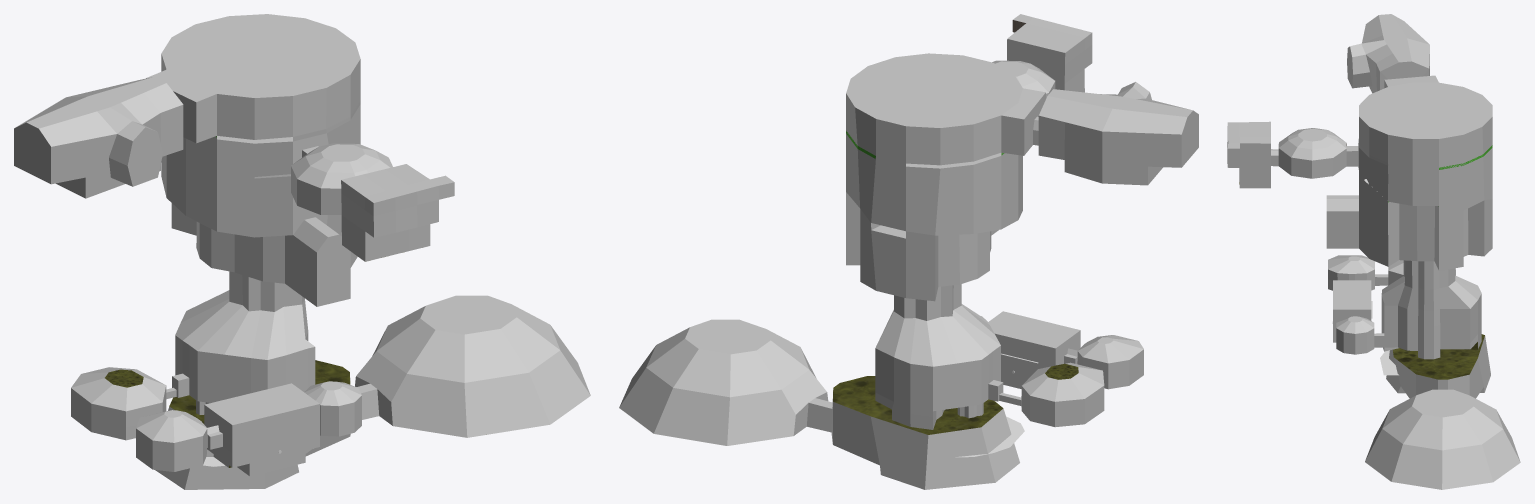
File: Inside_the_deku_treefinal.fbx
The picture shows the model from 3 angles, left to right: view 1: azimuth 30°, elevation 25°; view 2: azimuth 150°, elevation 25°; view 3: azimuth 270°, elevation 25°; orthographic projection. The views are drawn at different scales.
Parts seen in each view (by area): view 1: Chão, Escalável; view 2: Chão; view 3: Chão, Escalável.
Boxes of the visible parts, box(x1,y1,x2,y2) form: Chão: box(14, 14, 590, 489); Escalável: box(263, 224, 430, 283); Chão: box(619, 14, 1198, 489); Chão: box(1227, 14, 1520, 489); Escalável: box(1227, 135, 1468, 359).
Bounding box in the file's own units: 56352 × 38307 × 35521.
